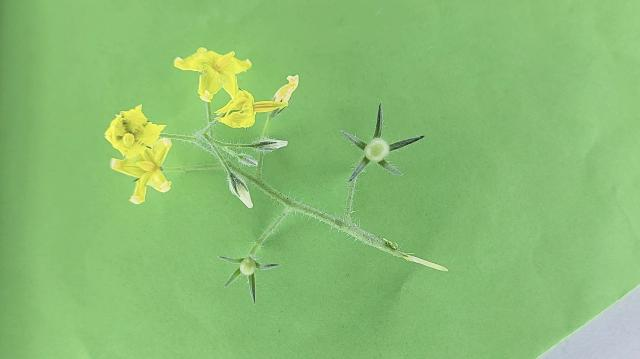Anthesis: (173, 46, 251, 104), (111, 135, 174, 203), (103, 103, 167, 160), (217, 87, 289, 131), (270, 72, 300, 113)
Flower Bud: (227, 170, 253, 210), (234, 153, 259, 167)
Fruit Bud: (365, 138, 389, 161), (239, 258, 256, 276)
